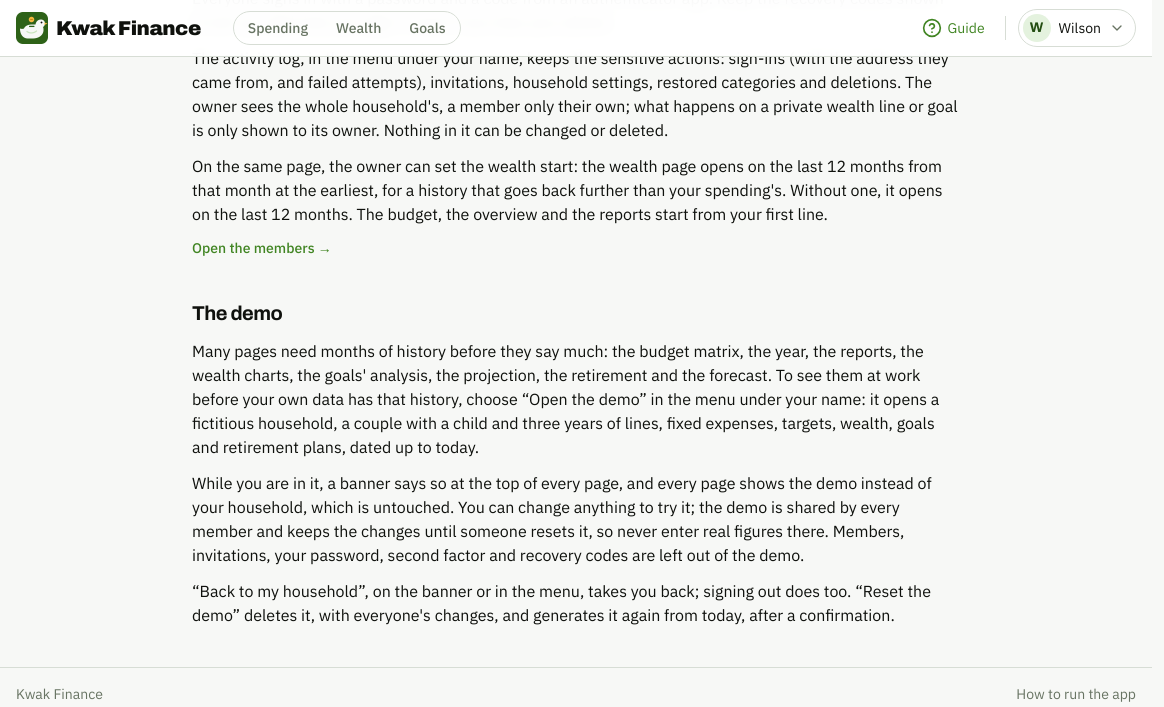
Scenario: the footer of a signed-in page links to the guide on running the app
(page scrolled)
Click the link "How to run the app".
click(1076, 694)  # box [1016,684,1136,704]
(page scrolled)
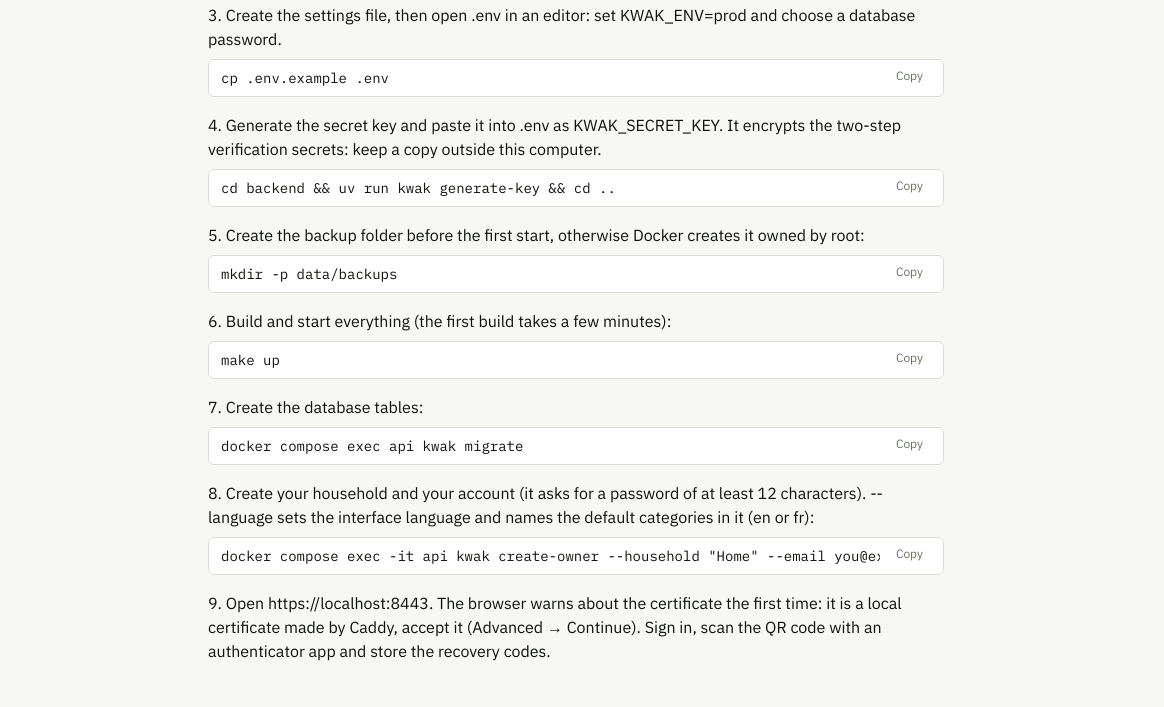
expect the text "make up" is shown: met, box [221,351,280,369]
